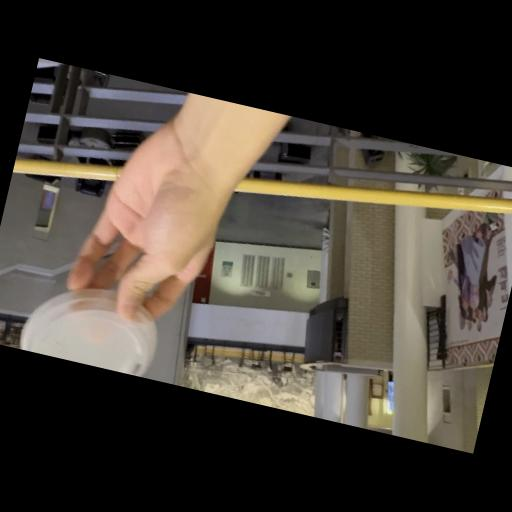lp_cup_lids: (20, 272, 168, 378)
